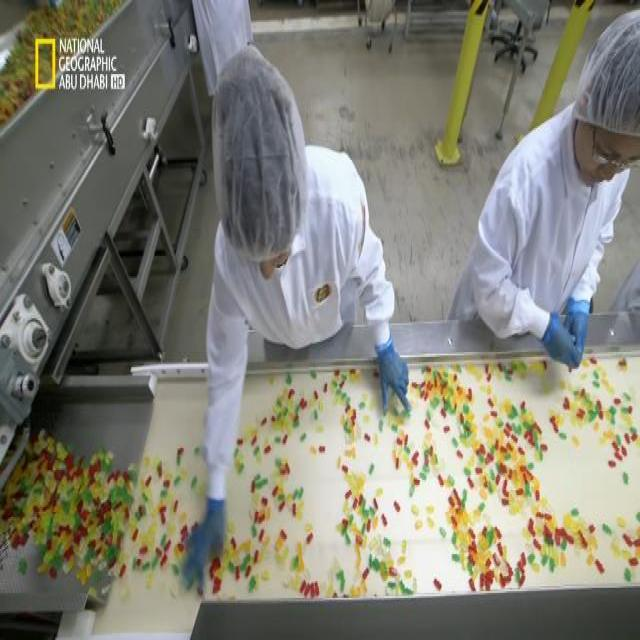hairnet: (214, 53, 306, 246), (567, 12, 640, 137)
